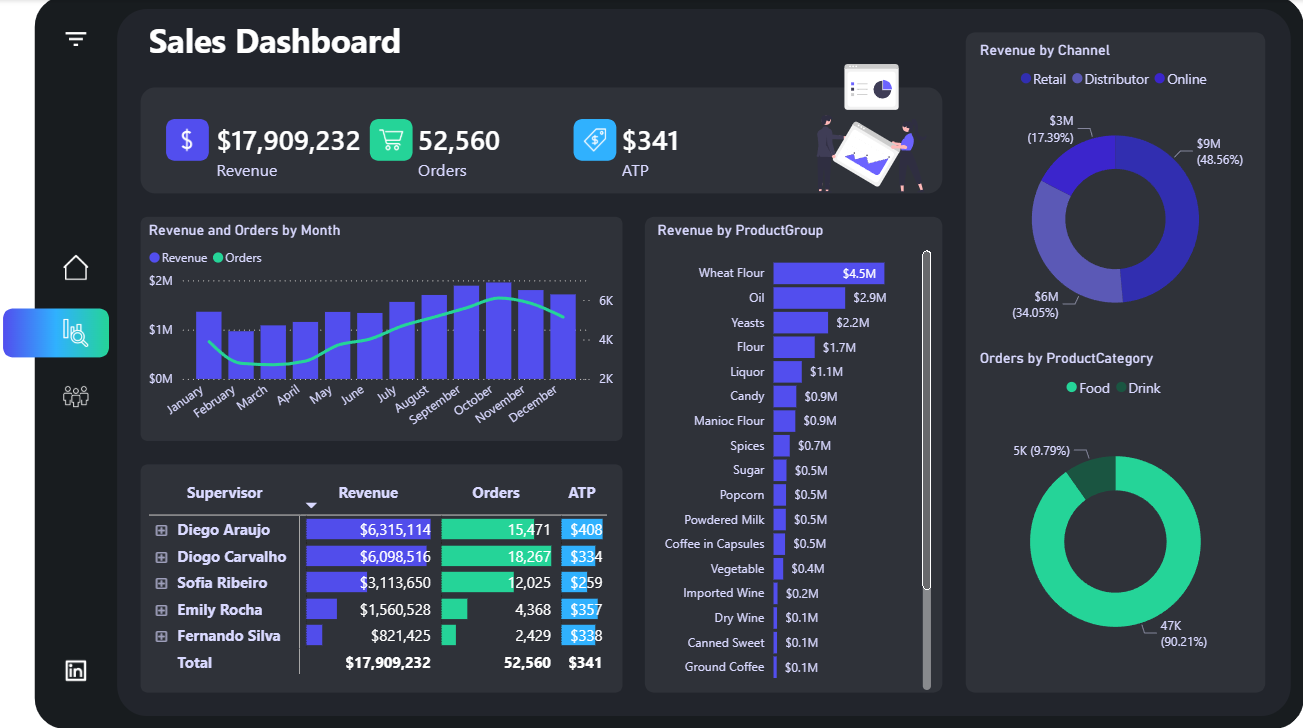

What the dashboard file says about the page in this screenshot:
{"tool":"powerbi","page":{"name":"Sales","canvas":[1280,720],"ordinal":1},"visuals":[{"type":"cardVisual","fields":{"Data":["Key_measure.Revenue","Key_measure.Orders","Key_measure.ATP"]},"box":[191.4,100.6,608.6,96.9],"z":0},{"type":"lineClusteredColumnComboChart","fields":{"Category":["dcalendar.Date.Variation.Date Hierarchy.Year","dcalendar.Date.Variation.Date Hierarchy.Quarter","dcalendar.Date.Variation.Date Hierarchy.Month"],"Y":["Key_measure.Revenue"],"Y2":["Key_measure.Orders"]},"box":[141.1,218.4,466.3,214.7],"z":1000},{"type":"clusteredBarChart","fields":{"Category":["dproducts.ProductGroup"],"Y":["Key_measure.Revenue"]},"box":[640.5,218.4,278.5,465],"z":2000},{"type":"pivotTable","fields":{"Rows":["dsalespersons.Supervisor","dsalespersons.Salesperson"],"Values":["Key_measure.Revenue","Key_measure.Orders","Key_measure.ATP"]},"box":[141.1,466.3,466.3,208.6],"z":3000},{"type":"donutChart","fields":{"Category":["dsalespersons.Channel"],"Y":["Key_measure.Revenue"]},"box":[957.1,41.7,276.1,303.1],"z":4000},{"type":"donutChart","fields":{"Category":["dproducts.ProductCategory"],"Y":["Key_measure.Orders"]},"box":[957.1,344.8,276.1,330.1],"z":5000},{"type":"textbox","box":[141.1,13.5,276.1,65],"z":6000},{"type":"actionButton","box":[34.4,245.4,81,40.5],"z":7000},{"type":"actionButton","box":[34.4,368.1,81,40.5],"z":8000},{"type":"actionButton","box":[34.4,642.9,81,31.9],"z":8001}]}

Visuals, with their boxes on the page's 1280x720 design canvas (x1, y1, x2, y2). These are canvas units, not pixel positions in the 1303x728 screenshot, which may show the page scaled, cropped or inside an application window:
cardVisual - Key_measure.Revenue x Key_measure.Orders: region(191, 101, 800, 198)
lineClusteredColumnComboChart - dcalendar.Date.Variation.Date Hierarchy.Year x dcalendar.Date.Variation.Date Hierarchy.Quarter: region(141, 218, 607, 433)
clusteredBarChart - dproducts.ProductGroup x Key_measure.Revenue: region(640, 218, 919, 683)
pivotTable - dsalespersons.Supervisor x dsalespersons.Salesperson: region(141, 466, 607, 675)
donutChart - dsalespersons.Channel x Key_measure.Revenue: region(957, 42, 1233, 345)
donutChart - dproducts.ProductCategory x Key_measure.Orders: region(957, 345, 1233, 675)
textbox: region(141, 14, 417, 78)
actionButton: region(34, 245, 115, 286)
actionButton: region(34, 368, 115, 409)
actionButton: region(34, 643, 115, 675)
